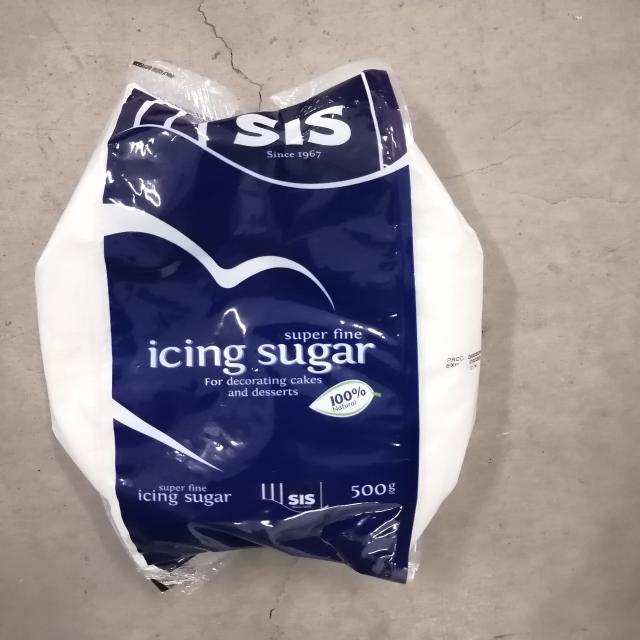object_name: (88, 81, 442, 567)
